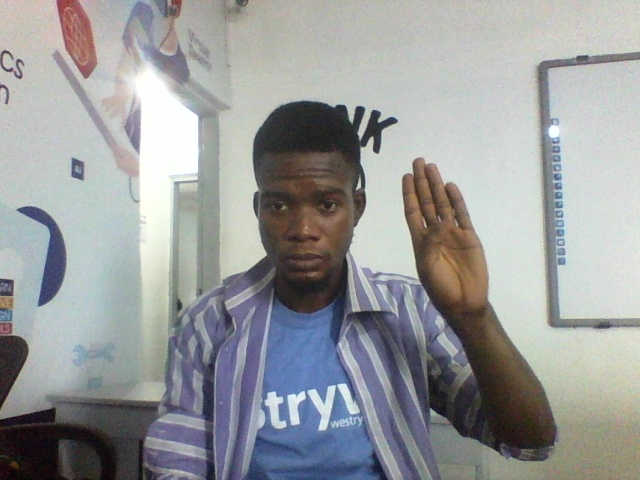hello: (395, 153, 501, 323)
